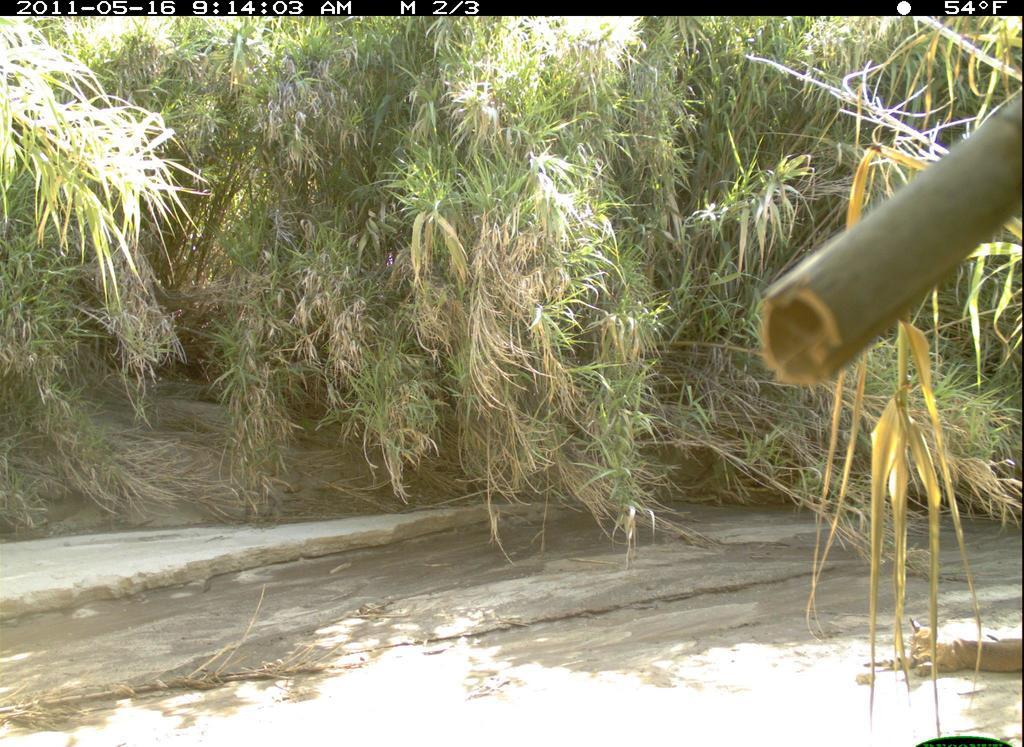bobcat: (866, 620, 1019, 693)
